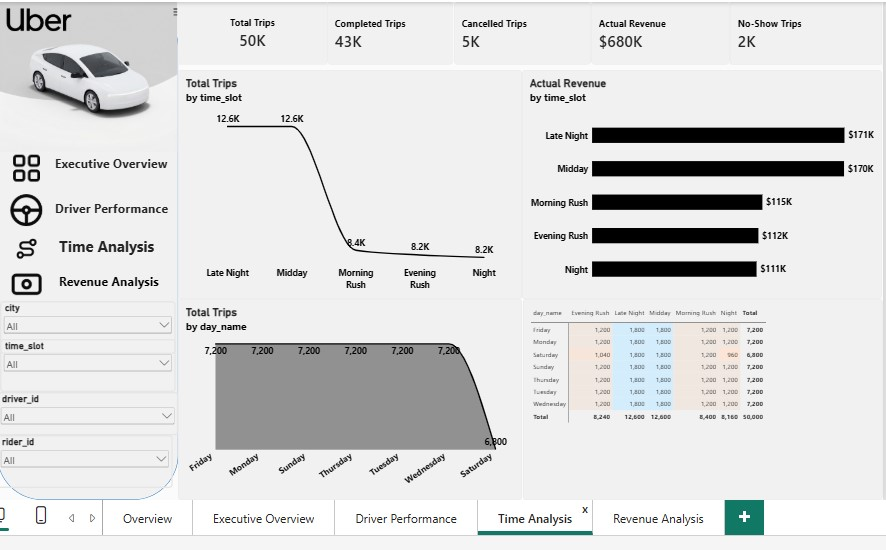

The dashboard page shown, as its layout file describes it:
{"tool":"powerbi","page":{"name":" Time Analysis","canvas":[1920,1080],"ordinal":3},"visuals":[{"type":"shape","box":[0,0,393.3,1080],"z":0},{"type":"image","box":[0,0,393.3,325.3],"z":1000},{"type":"image","box":[2.1,325.3,123.3,70.2],"z":2000},{"type":"textbox","box":[125.4,331.7,267.9,63.8],"z":3000},{"type":"cardVisual","fields":{"Data":["KPIs.Total Trips"]},"box":[393.3,0,323.1,136.1],"z":4000},{"type":"cardVisual","fields":{"Data":["KPIs.Completed Trips"]},"box":[716.5,0,274.3,136.1],"z":5000},{"type":"cardVisual","fields":{"Data":["KPIs.Cancelled Trips"]},"box":[990.7,0,297.6,136.1],"z":6000},{"type":"cardVisual","fields":{"Data":["KPIs.No-Show Trips"]},"box":[1590.2,0,329.5,136.1],"z":7000},{"type":"cardVisual","fields":{"Data":["KPIs.Actual Revenue"]},"box":[1288.3,0,301.9,136.1],"z":8000},{"type":"lineChart","fields":{"Category":["final_dataset.time_slot"],"Y":["KPIs.Total Trips"]},"box":[393.3,146.7,746.2,497.5],"z":9000},{"type":"areaChart","fields":{"Category":["final_dataset.day_name"],"Y":["KPIs.Total Trips"]},"box":[393.3,644.2,746.2,435.8],"z":10000},{"type":"clusteredBarChart","fields":{"Category":["final_dataset.time_slot"],"Y":["KPIs.Actual Revenue"]},"box":[1139.5,146.7,780.2,497.5],"z":11000},{"type":"pivotTable","fields":{"Columns":["final_dataset.time_slot"],"Rows":["final_dataset.day_name"],"Values":["KPIs.Total Trips"]},"box":[1140,644,780,436],"z":12000},{"type":"image","box":[2.1,410.3,123.3,82.9],"z":13000},{"type":"textbox","box":[125.4,429.4,276.4,46.8],"z":14000},{"type":"textbox","box":[125.4,508.1,246.6,63.8],"z":15000},{"type":"image","box":[8.5,508.1,110.6,55.3],"z":16000},{"type":"image","box":[14.9,571.9,97.8,78.7],"z":17000},{"type":"textbox","box":[133.9,586.8,229.6,63.8],"z":18000},{"type":"slicer","fields":{"Values":["final_dataset.time_slot"]},"box":[6.4,731.3,380.6,114.8],"z":18001},{"type":"slicer","fields":{"Values":["final_dataset.city"]},"box":[6.4,648.4,380.6,114.8],"z":18002},{"type":"slicer","fields":{"Values":["final_dataset.driver_id"]},"box":[0,846.1,393.3,93.5],"z":18003},{"type":"slicer","fields":{"Values":["final_dataset.rider_id"]},"box":[0,939.7,380.6,114.8],"z":18004}]}

Visuals, with their boxes on the page's 1920x1080 design canvas (x1, y1, x2, y2). These are canvas units, not pixel positions in the 886x550 screenshot, which may show the page scaled, cropped or inside an application window:
shape: {"left": 0, "top": 0, "right": 393, "bottom": 1080}
image: {"left": 0, "top": 0, "right": 393, "bottom": 325}
image: {"left": 2, "top": 325, "right": 125, "bottom": 396}
textbox: {"left": 125, "top": 332, "right": 393, "bottom": 396}
cardVisual - KPIs.Total Trips: {"left": 393, "top": 0, "right": 716, "bottom": 136}
cardVisual - KPIs.Completed Trips: {"left": 716, "top": 0, "right": 991, "bottom": 136}
cardVisual - KPIs.Cancelled Trips: {"left": 991, "top": 0, "right": 1288, "bottom": 136}
cardVisual - KPIs.No-Show Trips: {"left": 1590, "top": 0, "right": 1920, "bottom": 136}
cardVisual - KPIs.Actual Revenue: {"left": 1288, "top": 0, "right": 1590, "bottom": 136}
lineChart - final_dataset.time_slot x KPIs.Total Trips: {"left": 393, "top": 147, "right": 1140, "bottom": 644}
areaChart - final_dataset.day_name x KPIs.Total Trips: {"left": 393, "top": 644, "right": 1140, "bottom": 1080}
clusteredBarChart - final_dataset.time_slot x KPIs.Actual Revenue: {"left": 1140, "top": 147, "right": 1920, "bottom": 644}
pivotTable - final_dataset.time_slot x final_dataset.day_name: {"left": 1140, "top": 644, "right": 1920, "bottom": 1080}
image: {"left": 2, "top": 410, "right": 125, "bottom": 493}
textbox: {"left": 125, "top": 429, "right": 402, "bottom": 476}
textbox: {"left": 125, "top": 508, "right": 372, "bottom": 572}
image: {"left": 8, "top": 508, "right": 119, "bottom": 563}
image: {"left": 15, "top": 572, "right": 113, "bottom": 651}
textbox: {"left": 134, "top": 587, "right": 364, "bottom": 651}
slicer - final_dataset.time_slot: {"left": 6, "top": 731, "right": 387, "bottom": 846}
slicer - final_dataset.city: {"left": 6, "top": 648, "right": 387, "bottom": 763}
slicer - final_dataset.driver_id: {"left": 0, "top": 846, "right": 393, "bottom": 940}
slicer - final_dataset.rider_id: {"left": 0, "top": 940, "right": 381, "bottom": 1054}
